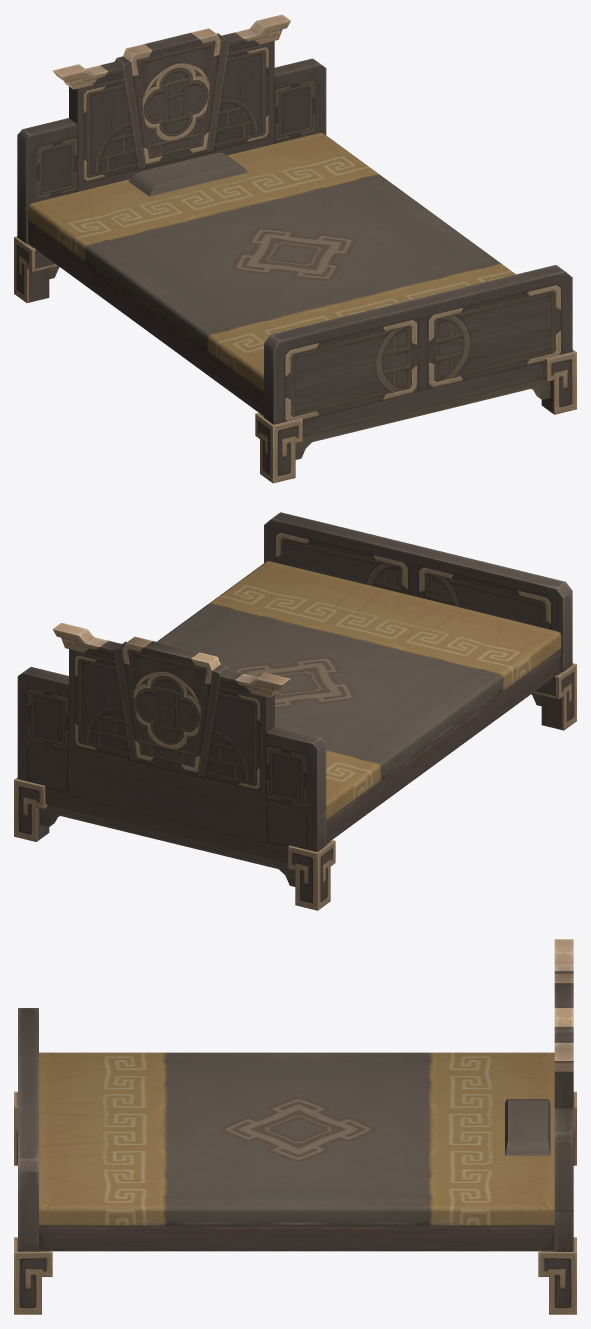
The model's file is Homeworld_Interior_Ly_Bed_Bed_01_Vo.fbx.
The picture shows the model from 3 angles, top to bottom: view 1: azimuth 30°, elevation 25°; view 2: azimuth 150°, elevation 25°; view 3: azimuth 270°, elevation 25°; orthographic projection. The views are drawn at different scales.
Visible parts, largest first — view 1: Homeworld_Interior_Ly_Bed_Bed_01_Vo; view 2: Homeworld_Interior_Ly_Bed_Bed_01_Vo; view 3: Homeworld_Interior_Ly_Bed_Bed_01_Vo.
Part boxes in pixels (bbox=[...]): Homeworld_Interior_Ly_Bed_Bed_01_Vo: bbox=[14, 14, 576, 483]; Homeworld_Interior_Ly_Bed_Bed_01_Vo: bbox=[14, 512, 576, 910]; Homeworld_Interior_Ly_Bed_Bed_01_Vo: bbox=[14, 939, 576, 1314].
Bounding box in the file's own units: 1.65 × 1.14 × 2.44.
1 material, 1 textured.
